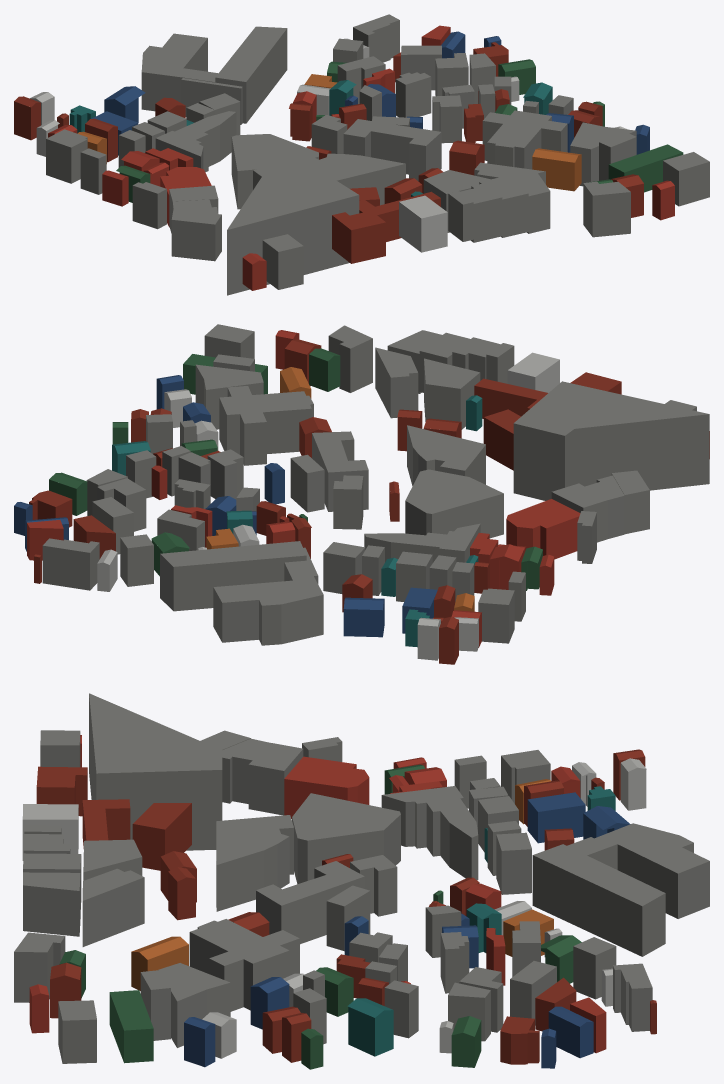
File: near-17-109442-59472.ac2f8e87.glb
The picture shows the model from 3 angles, top to bottom: view 1: azimuth 30°, elevation 25°; view 2: azimuth 150°, elevation 25°; view 3: azimuth 270°, elevation 25°; orthographic projection. The views are drawn at different scales.
Size of the model in its own units: 306 by 52.82 by 321.
